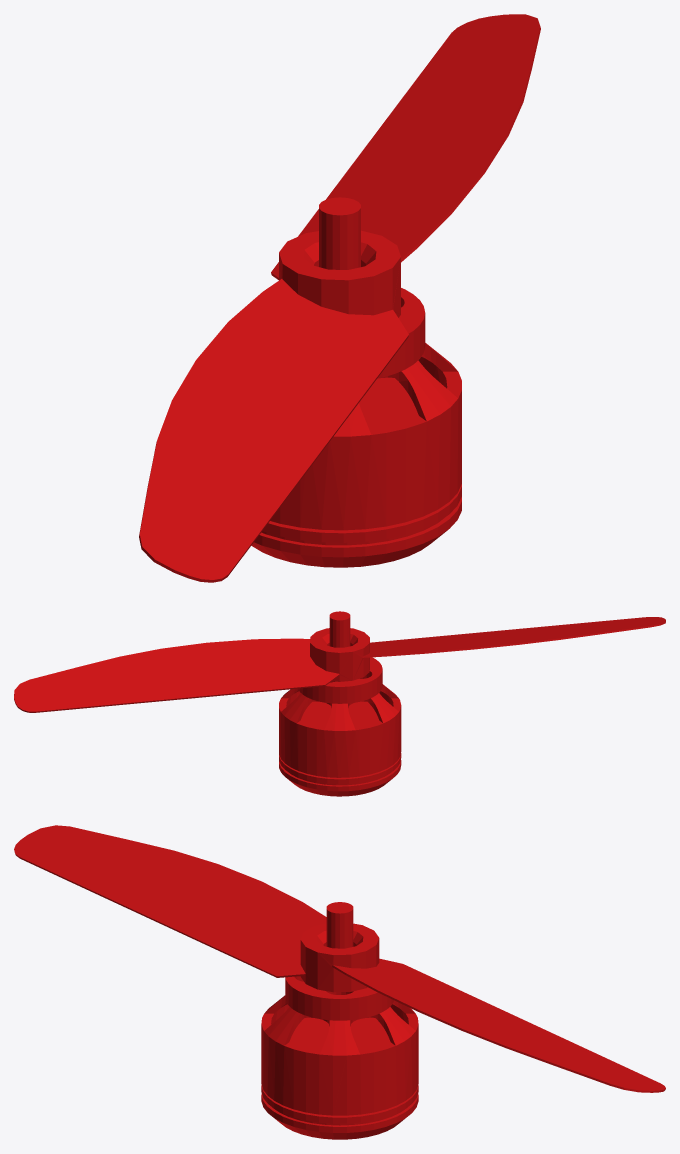
File: motor2.dae
3 views of the same model, one above another, from view 1: azimuth 30°, elevation 25°; view 2: azimuth 150°, elevation 25°; view 3: azimuth 270°, elevation 25° (orthographic). The views are drawn at different scales.
Parts seen in each view (by area): view 1: motor2; view 2: motor2; view 3: motor2.
Part boxes in pixels (x1=…): motor2: x1=139, y1=14, x2=540, y2=582; motor2: x1=14, y1=611, x2=665, y2=796; motor2: x1=14, y1=825, x2=665, y2=1139.
Size of the model in its own units: 0.0909 by 0.0953 by 0.0348.
